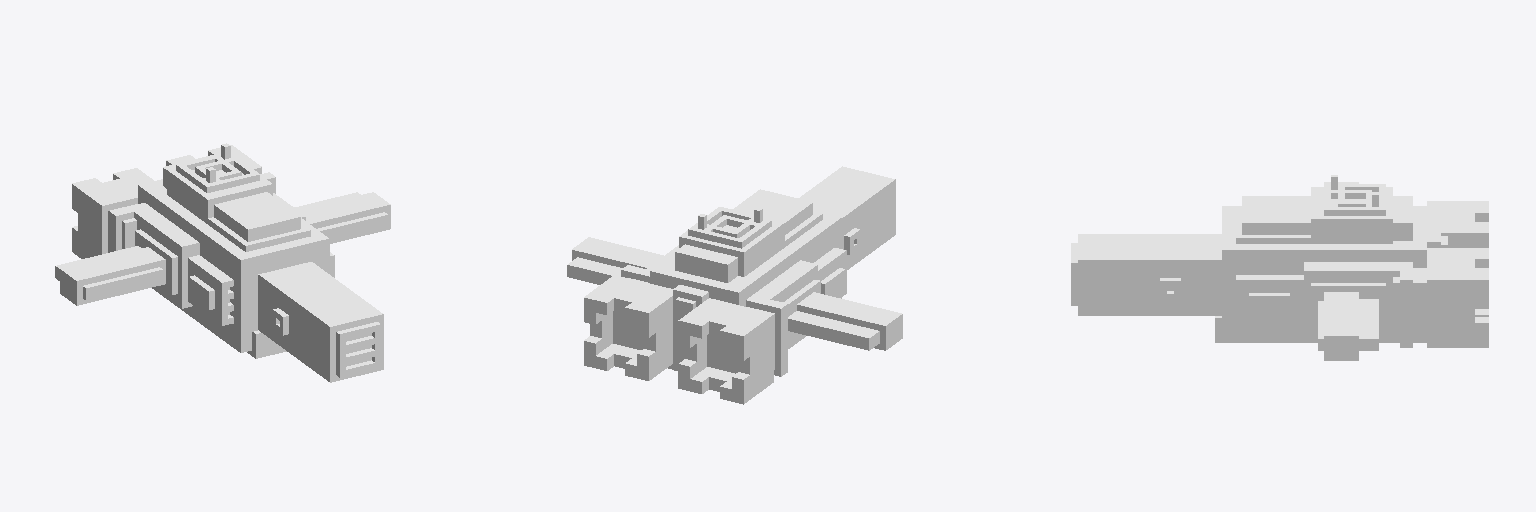
Rendered from A-Test-Spacehip-05.obj.
3 views of the same model, side by side, from view 1: azimuth 30°, elevation 25°; view 2: azimuth 150°, elevation 25°; view 3: azimuth 270°, elevation 25° (orthographic).
Bounding box in the file's own units: 53 × 23 × 61.